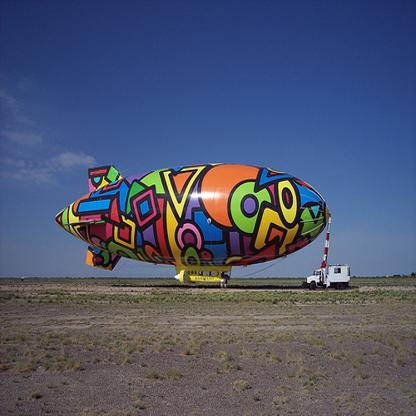Airship: (51, 156, 331, 304)
